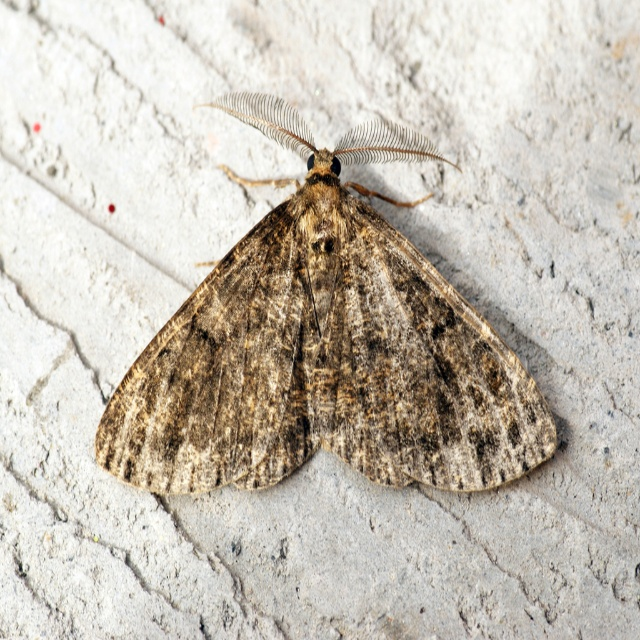Butterfly: (93, 78, 563, 519)
